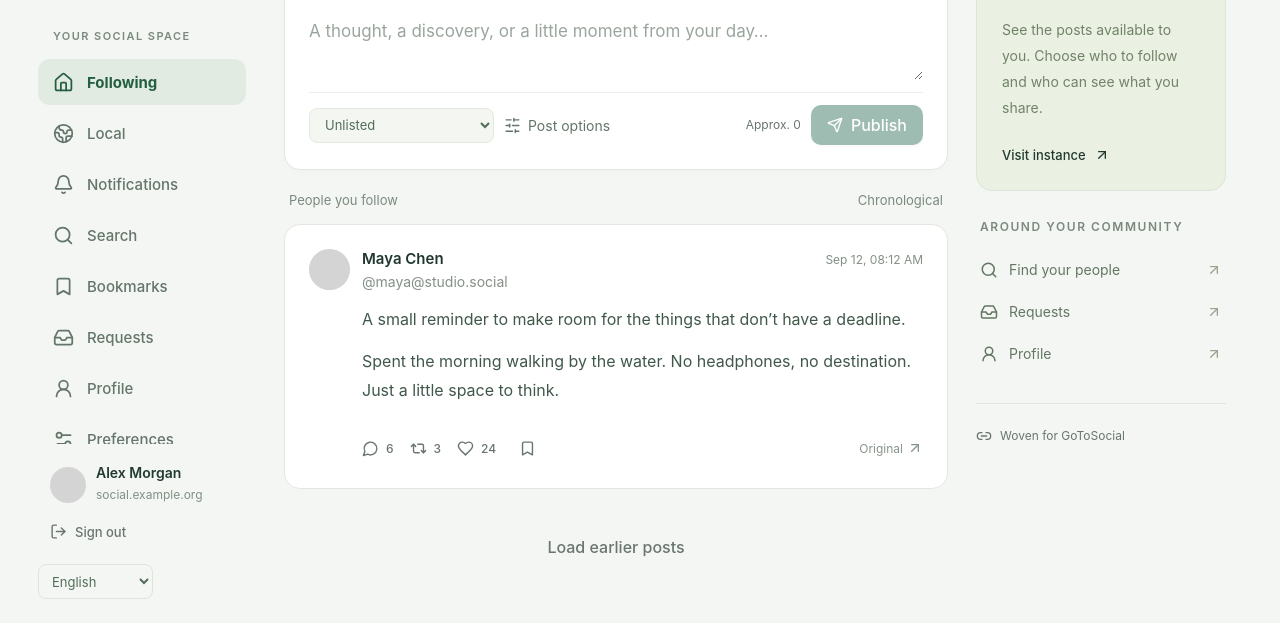
it: application lifecycle › preserves a usable account when metadata fails and deduplicates paginated posts
(page scrolled)
Expected: the text box with class "draft-input" is shown, 309,10 -> 923,80
Click the button "Load earlier posts".
click(616, 547)  # box 531,527 -> 701,567
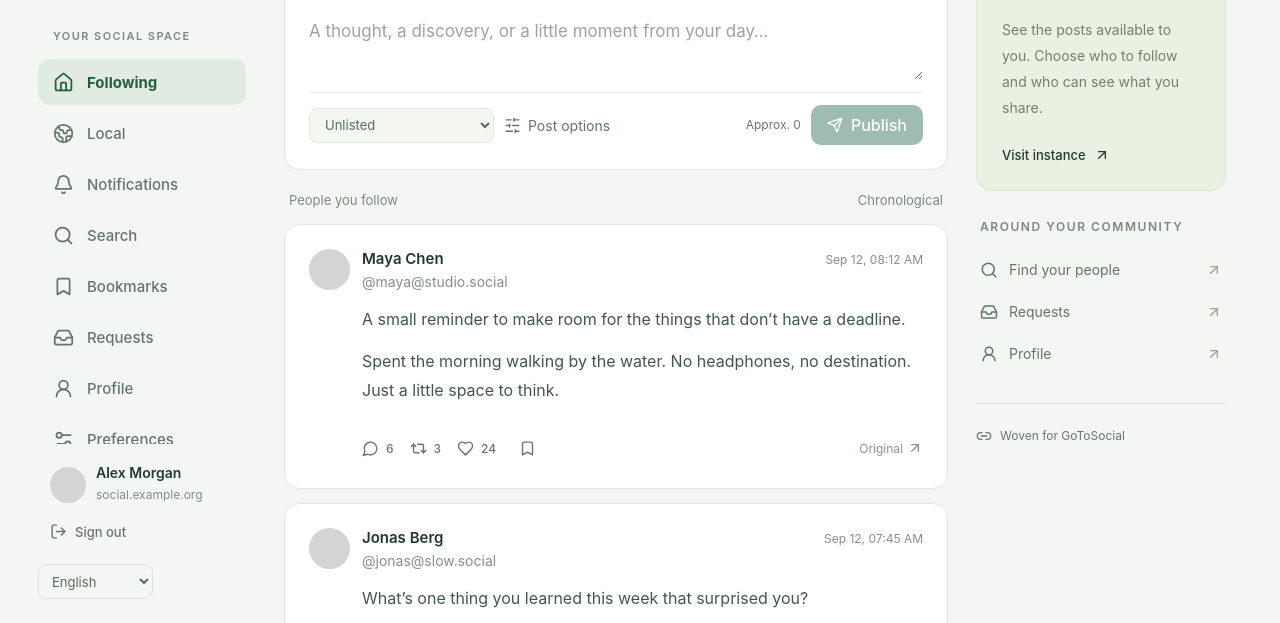
Click the button "Local".
click(142, 133)  # box 38,110 -> 246,156
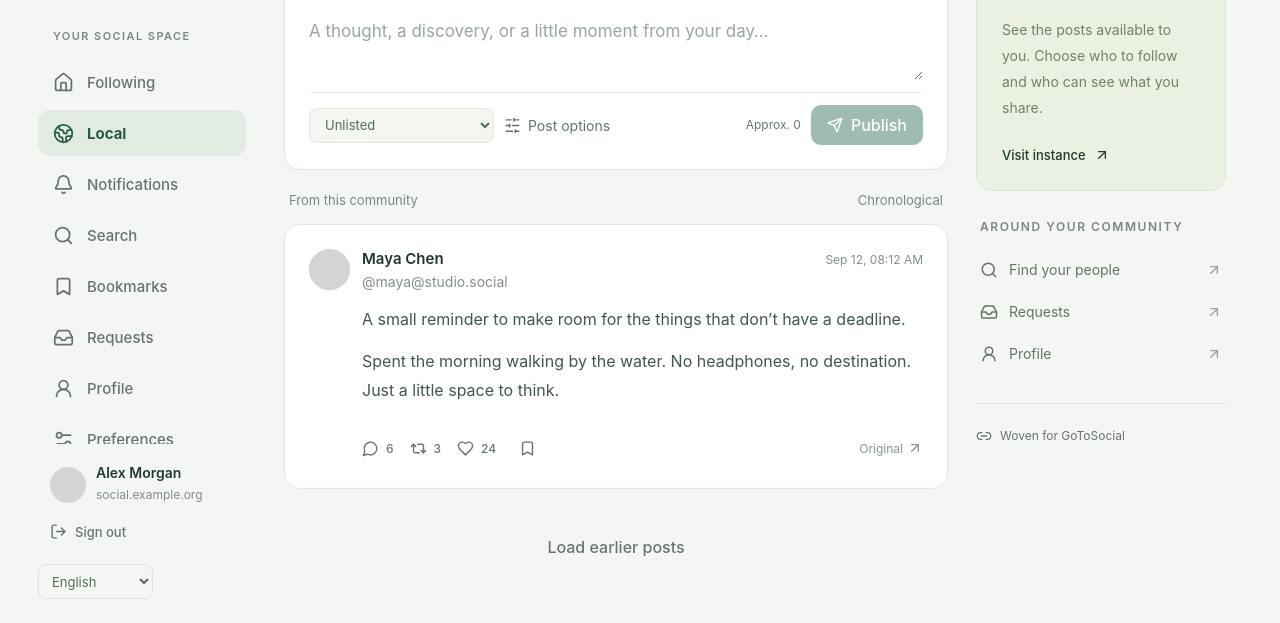
Click the button "Search".
click(142, 235)  # box 38,212 -> 246,258
(page scrolled)
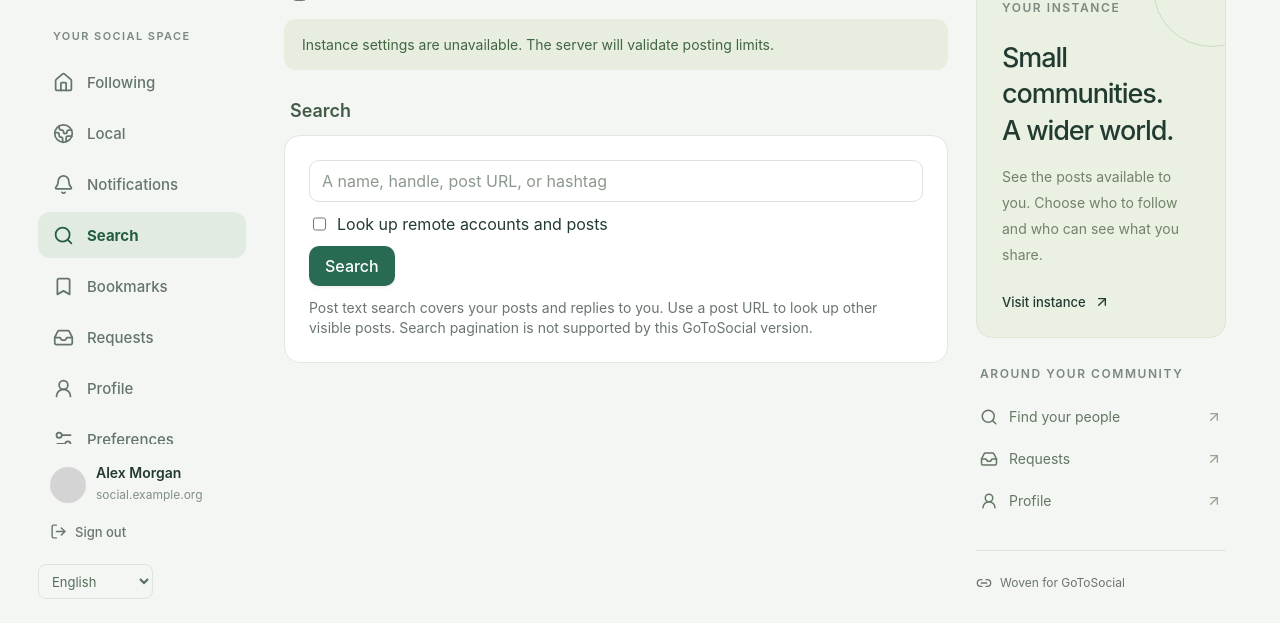
Expected: the field with id "search" is shown, 309,160 -> 923,202
Click the button "Following".
click(142, 82)  # box 38,59 -> 246,105
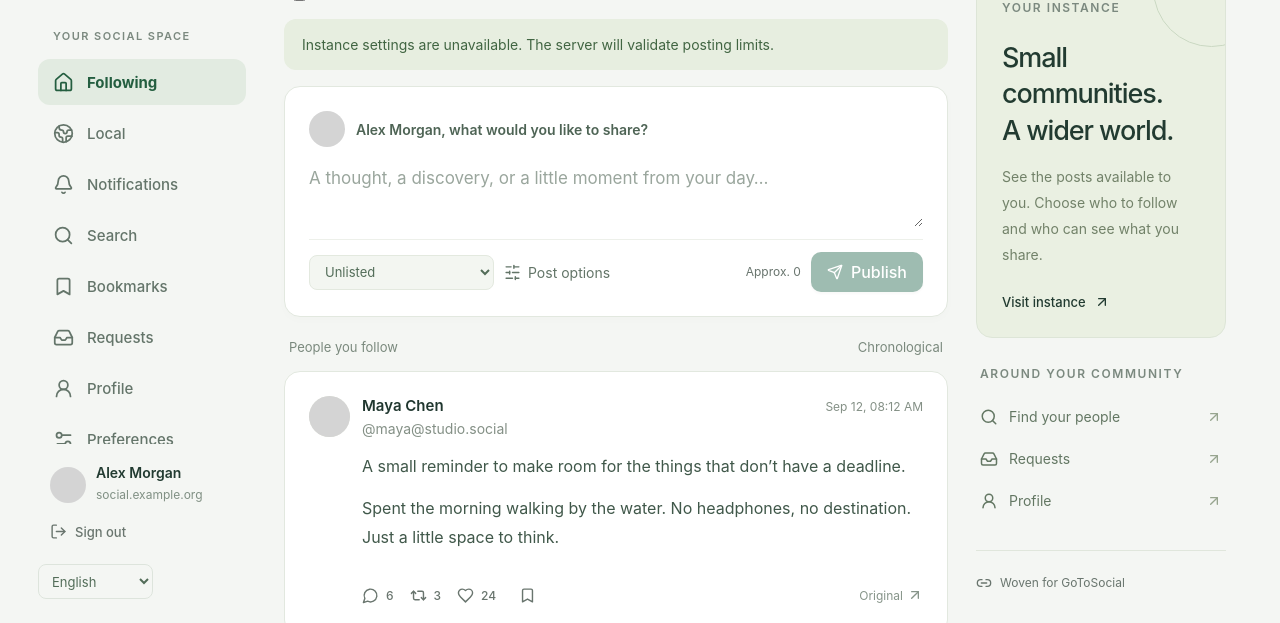
Expected: the field with id "search" is gone
